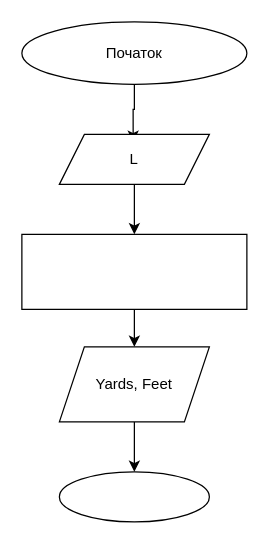
The diagram is 269 pixels wide and 544 high, and some of its shapes have lost their labels. Here are the shapes that lost their labels. From the top down, the centre of each, then its label:
the point at 134,271: L_мм = L * 1000 Yards = L_мм / 914.4 Feet = L_мм / 304.8
the point at 133,496: Кінець
